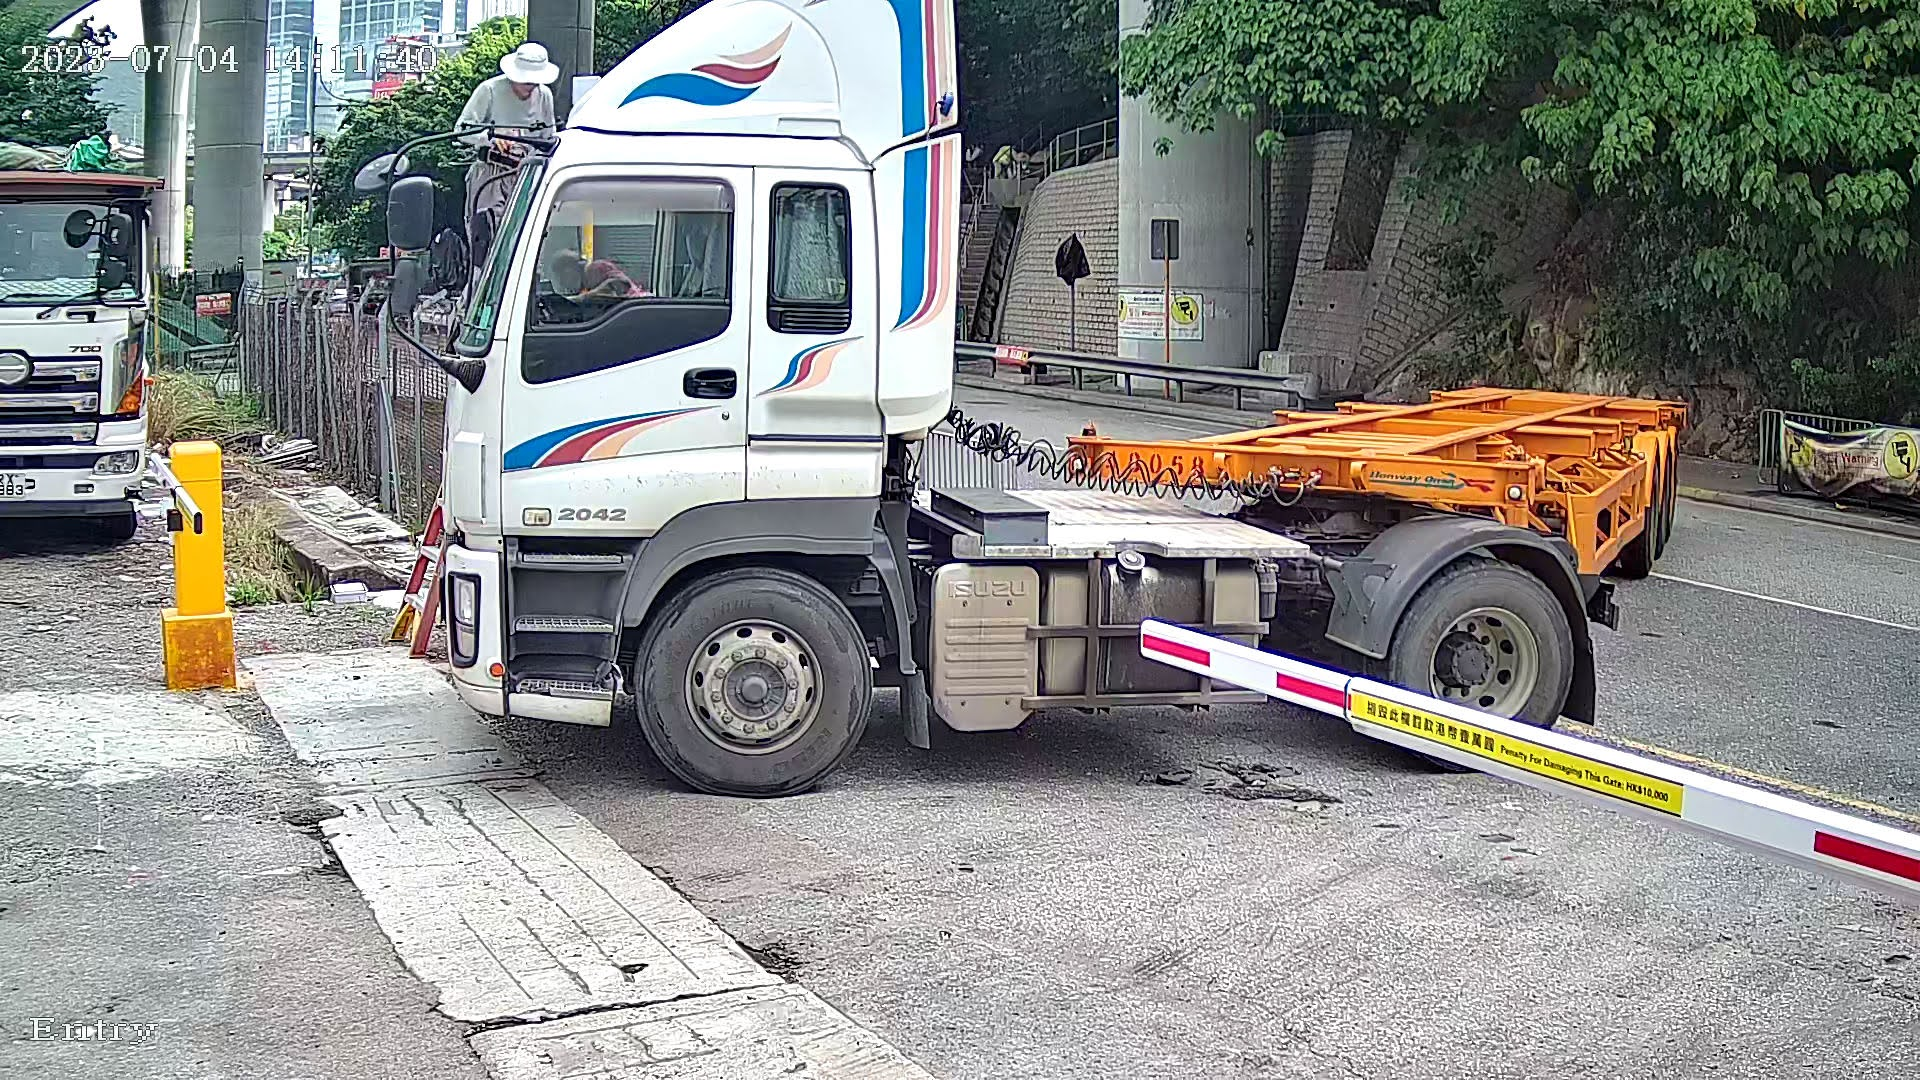truck: (407, 3, 1704, 818)
